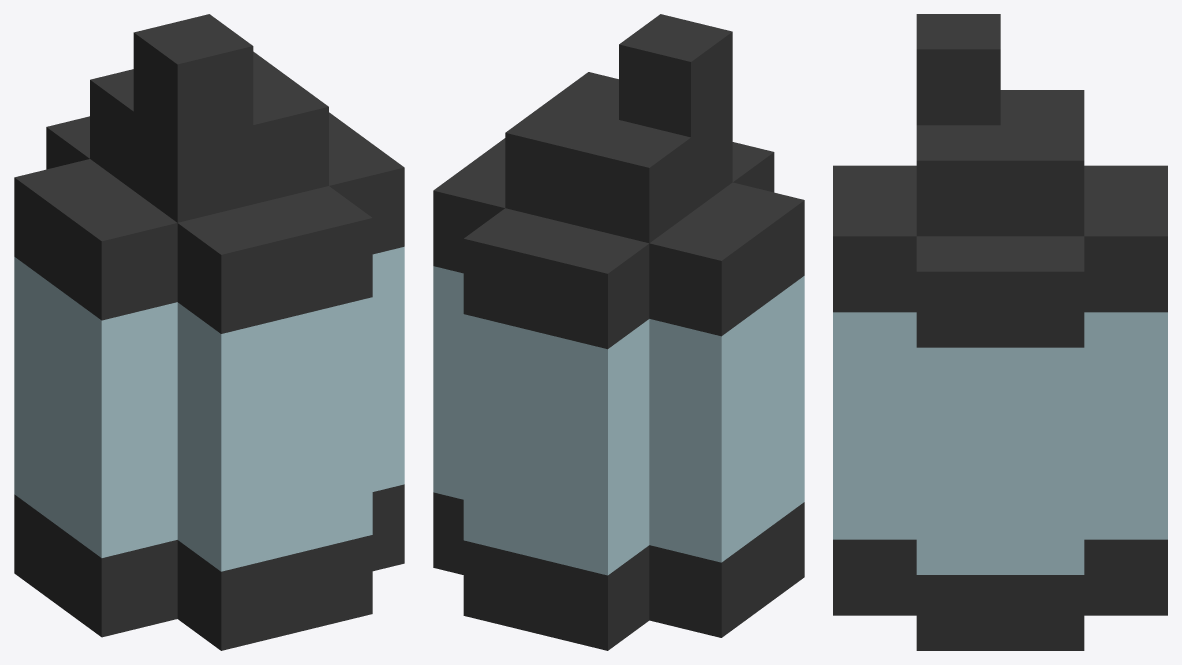
The model's file is Lanterna Apagada.obj.
3 views of the same model, side by side, from view 1: azimuth 30°, elevation 25°; view 2: azimuth 150°, elevation 25°; view 3: azimuth 270°, elevation 25° (orthographic). The views are drawn at different scales.
Bounding box in the file's own units: 0.4 × 0.7 × 0.4.
1 material, 1 textured.
